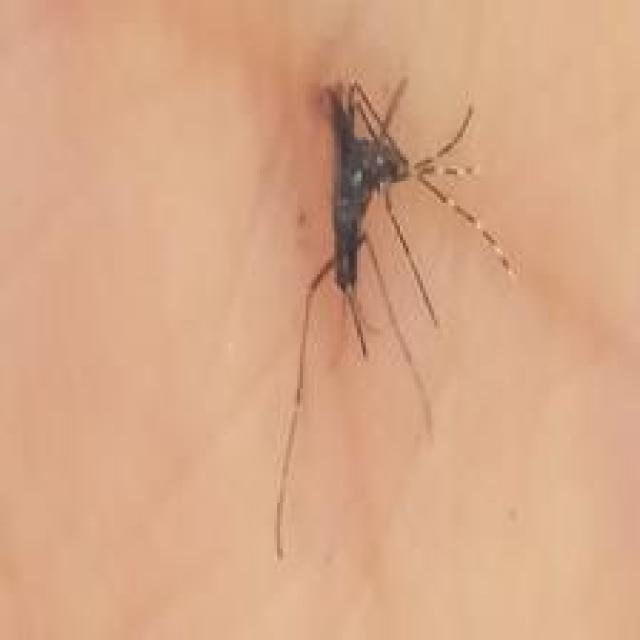Aedes albopictus: (272, 73, 517, 558)
